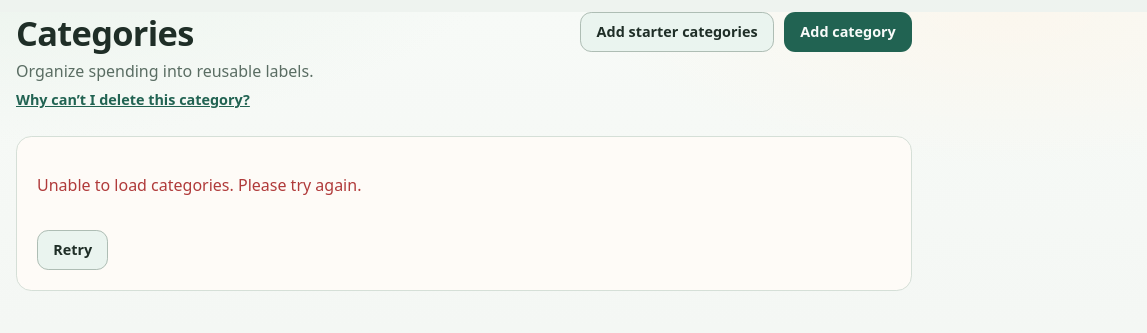
Test: CategoriesPage › shows an error state and retries
Expected: the message shows "Unable to load categories", [37,174,361,196]
Click the button "Retry": point(73, 250) [37,230,108,270]
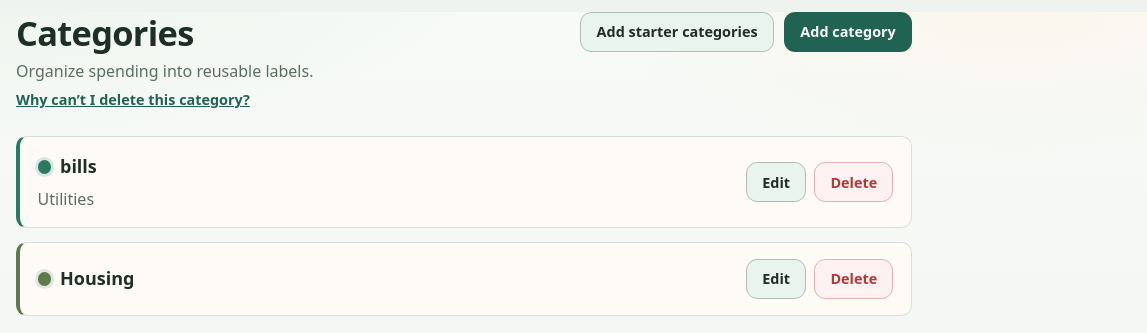
Expected: the heading "bills" is shown, [38,153,97,181]
